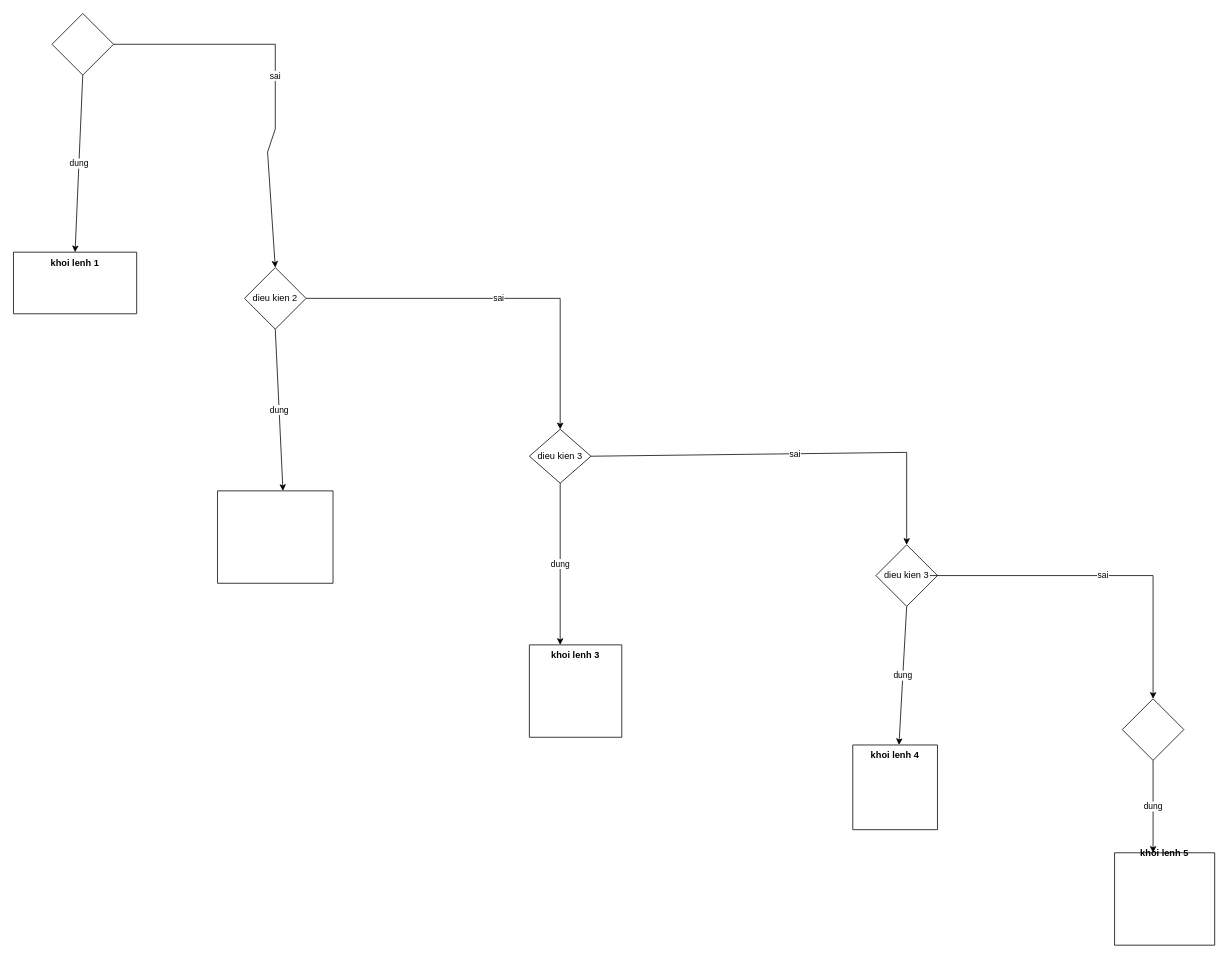
The diagram is 1228 pixels wide and 959 high, and some of its shapes have lost their labels. The centre of each missing label's shape, as x and y in pixels:
"dieu kien 1" goes at (x=82, y=44).
"dieu kien 5" goes at (x=1153, y=729).
"khoi lenh 2" goes at (x=275, y=536).
